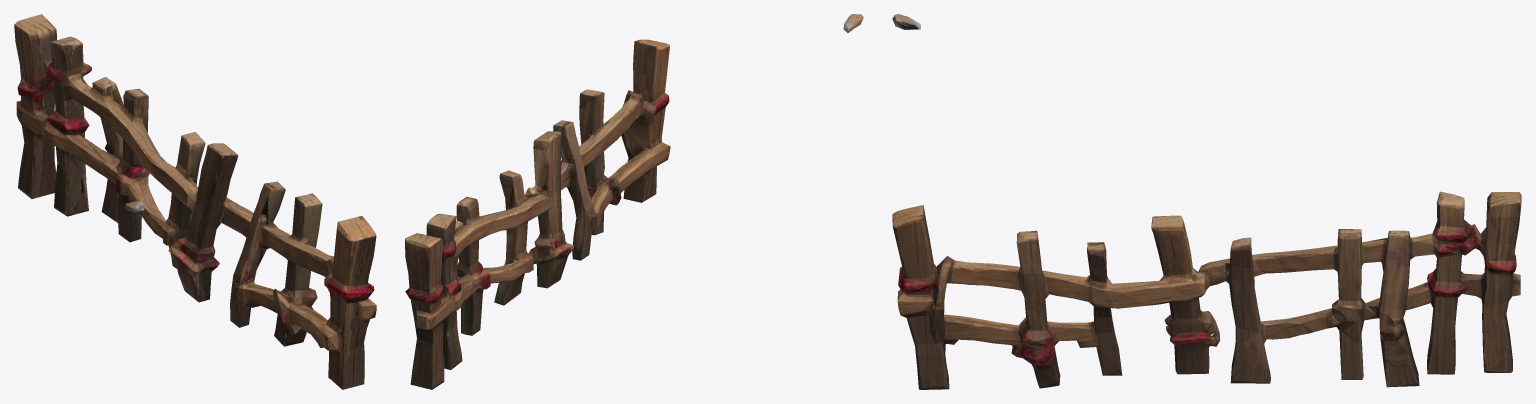
Rendered from fence_broken_rail_lod0.glb.
3 renders of one model, left to right at view 1: azimuth 30°, elevation 25°; view 2: azimuth 150°, elevation 25°; view 3: azimuth 270°, elevation 25°, orthographic. The views are drawn at different scales.
Visible parts, largest first — view 1: fence_broken_rail_lod0; view 2: fence_broken_rail_lod0; view 3: fence_broken_rail_lod0.
Part boxes in pixels (x1,y1,x2,y2): fence_broken_rail_lod0: [14, 14, 376, 389]; fence_broken_rail_lod0: [405, 14, 863, 389]; fence_broken_rail_lod0: [892, 14, 1521, 389].
Bounding box in the file's own units: 0.9654 × 0.8942 × 2.
Materials: 1 (1 with a texture image).
